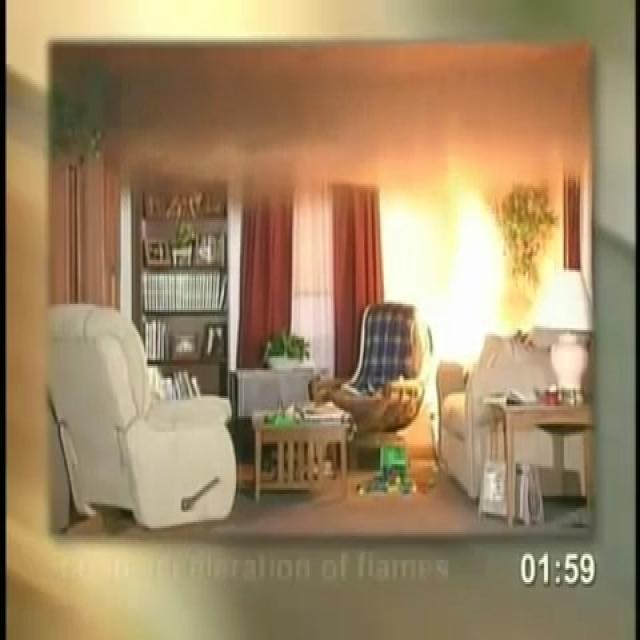Fire: (344, 142, 536, 428)
